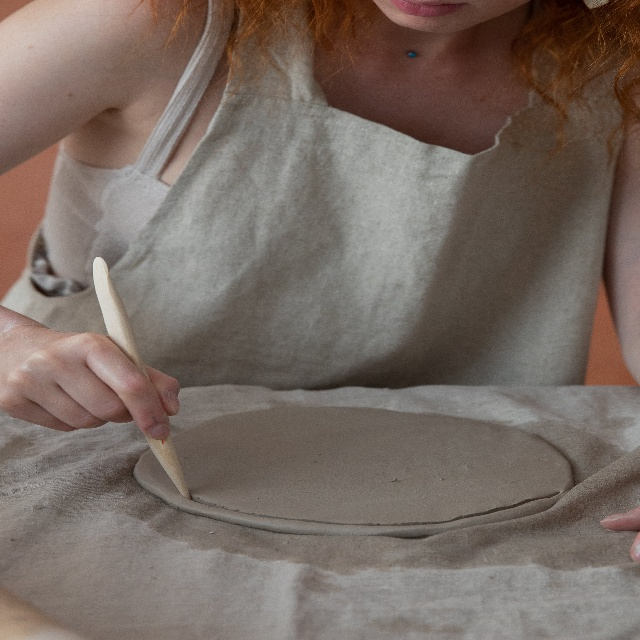Sin_guantes: (0, 332, 183, 441), (598, 508, 640, 563)
